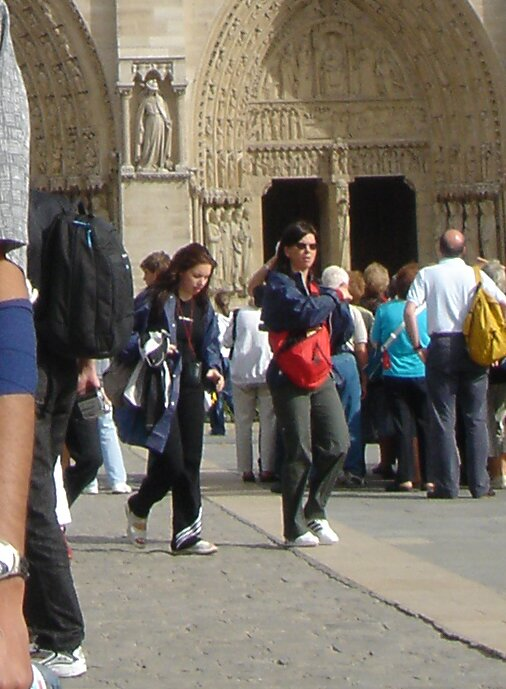person: (253, 213, 362, 552), (117, 242, 234, 557), (401, 227, 505, 508)
